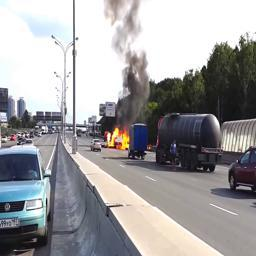fire: (105, 126, 129, 149)
